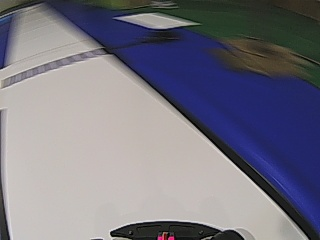CrossWalk: (6, 48, 102, 87)
